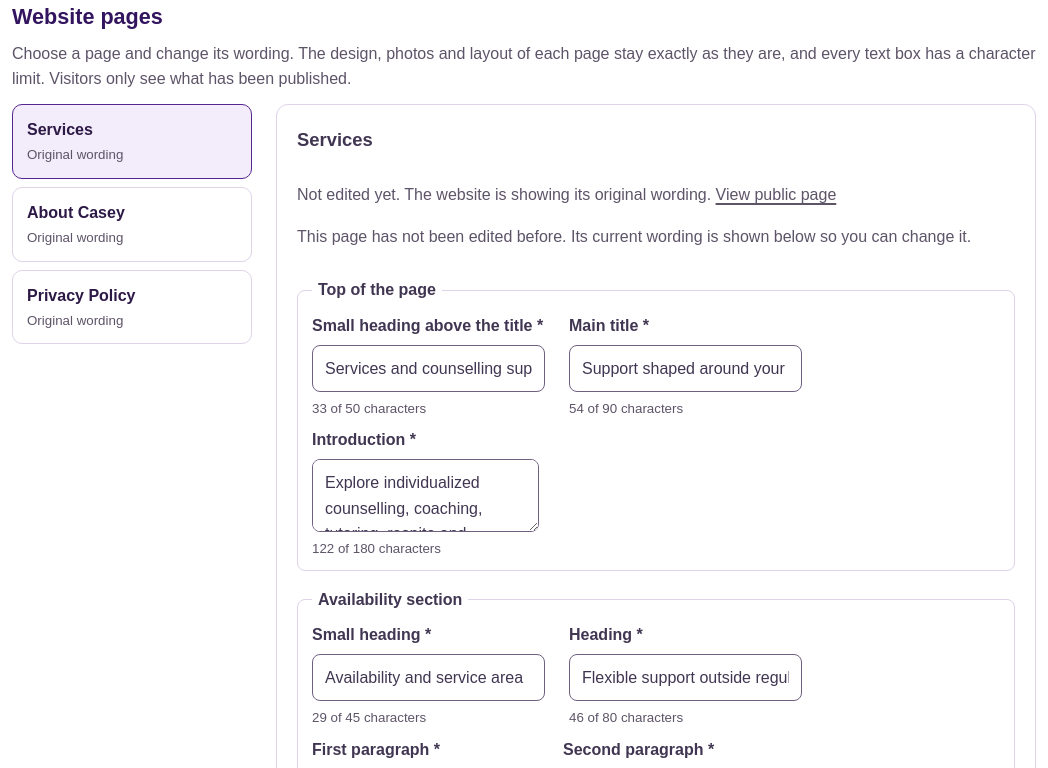
AdminContentPages: the editor › updates the counter while typing
Replace the text in the field labelled "Main title *" with "Hello": [686, 368] box top-left (569, 344), bottom-right (802, 392)
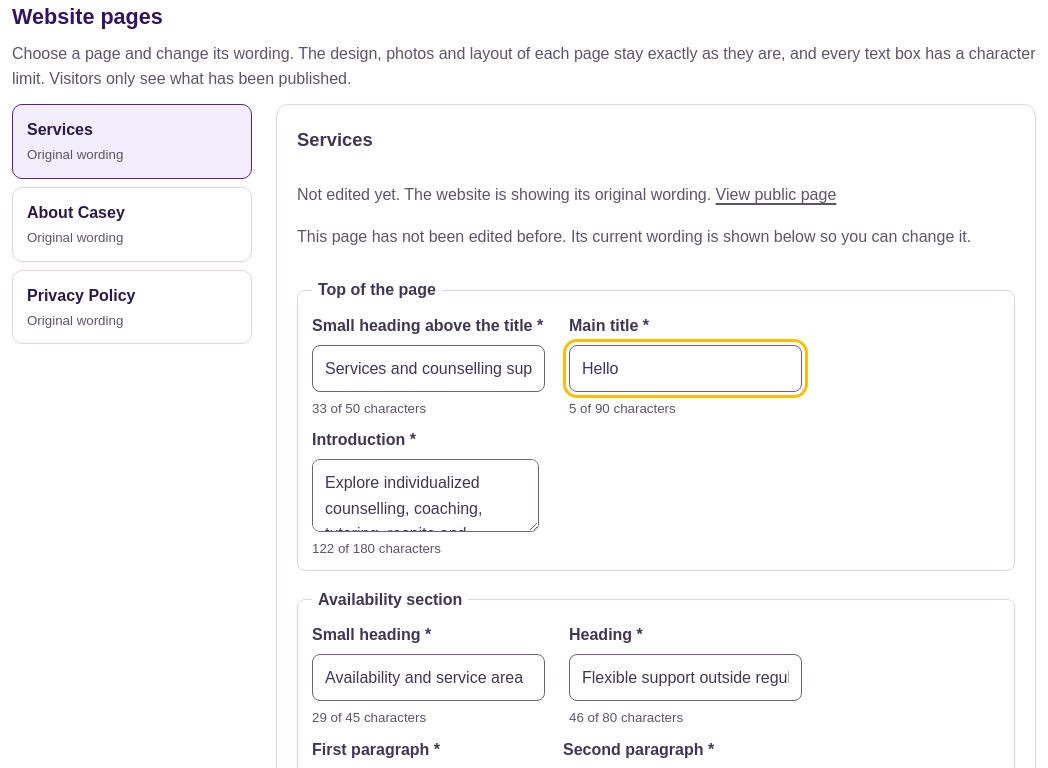
Now the text "5 of 90 characters" is shown, box top-left (569, 401), bottom-right (676, 416)
